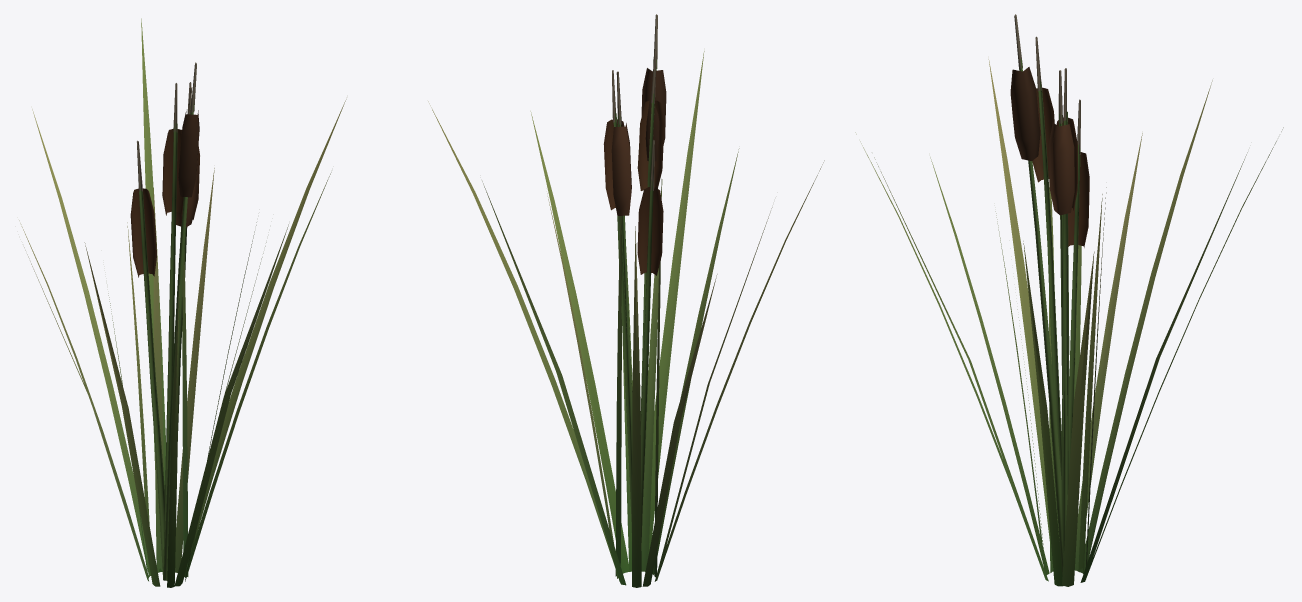
The model's file is cattail.glb.
3 renders of one model, left to right at view 1: azimuth 30°, elevation 25°; view 2: azimuth 150°, elevation 25°; view 3: azimuth 270°, elevation 25°, orthographic. The views are drawn at different scales.
Parts seen in each view (by area): view 1: cattail, cattail-lo; view 2: cattail, cattail-lo; view 3: cattail, cattail-lo.
Boxes of the visible parts, bbox=[...] form: cattail: bbox=[19, 18, 346, 581]; cattail-lo: bbox=[24, 62, 288, 587]; cattail: bbox=[428, 50, 824, 578]; cattail-lo: bbox=[482, 14, 772, 587]; cattail: bbox=[855, 36, 1283, 577]; cattail-lo: bbox=[874, 14, 1247, 586].
Size of the model in its own units: 1.49 by 2.08 by 1.44.
